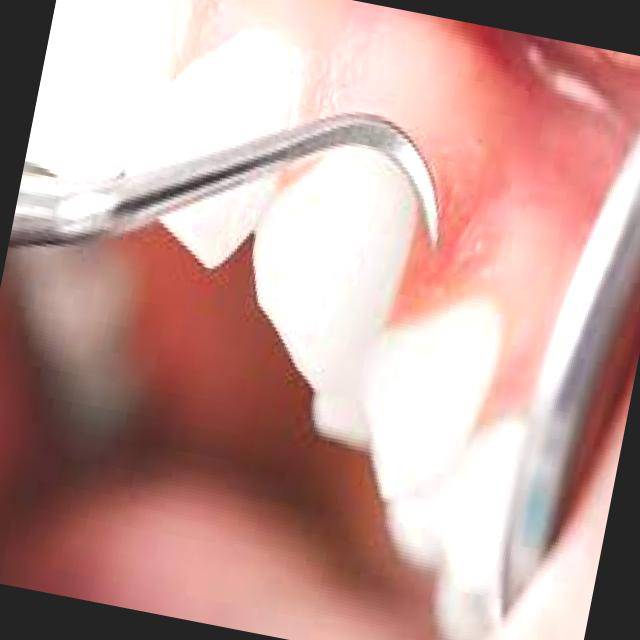abscess: (373, 98, 552, 362)
